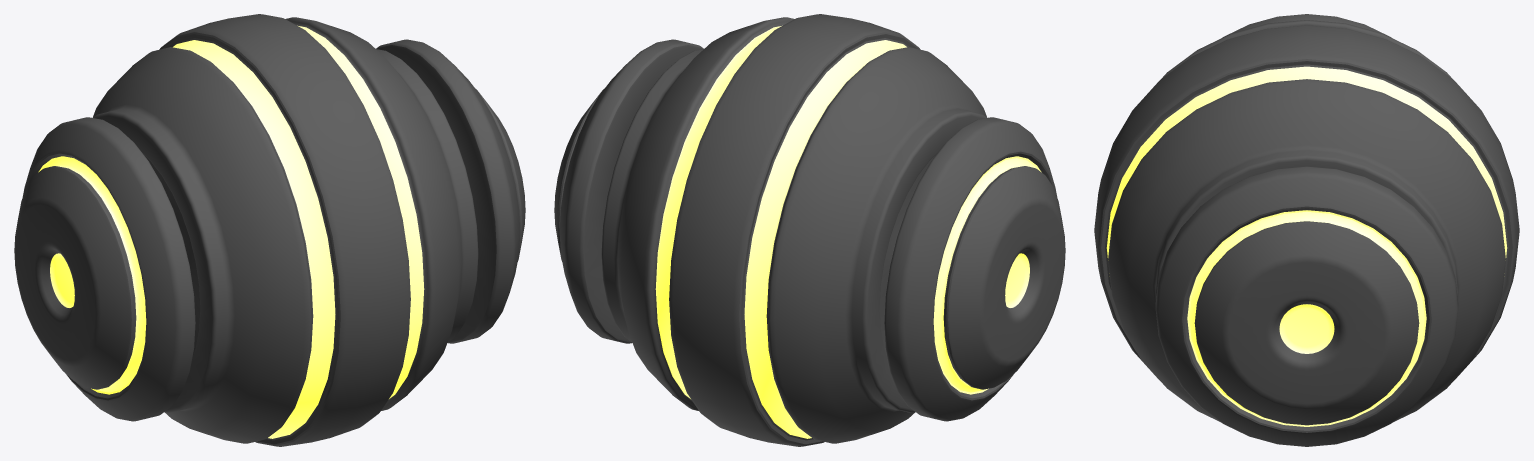
The picture shows the model from 3 angles, left to right: view 1: azimuth 30°, elevation 25°; view 2: azimuth 150°, elevation 25°; view 3: azimuth 270°, elevation 25°; orthographic projection.
Parts seen in each view (by area): view 1: playerCapsule.001; view 2: playerCapsule.001; view 3: playerCapsule.001.
Part boxes in pixels (left/top/right/bottom): playerCapsule.001: left=14, top=14, right=525, bottom=446; playerCapsule.001: left=554, top=14, right=1065, bottom=446; playerCapsule.001: left=1094, top=14, right=1519, bottom=446.
Size of the model in its own units: 118 by 103 by 103.
